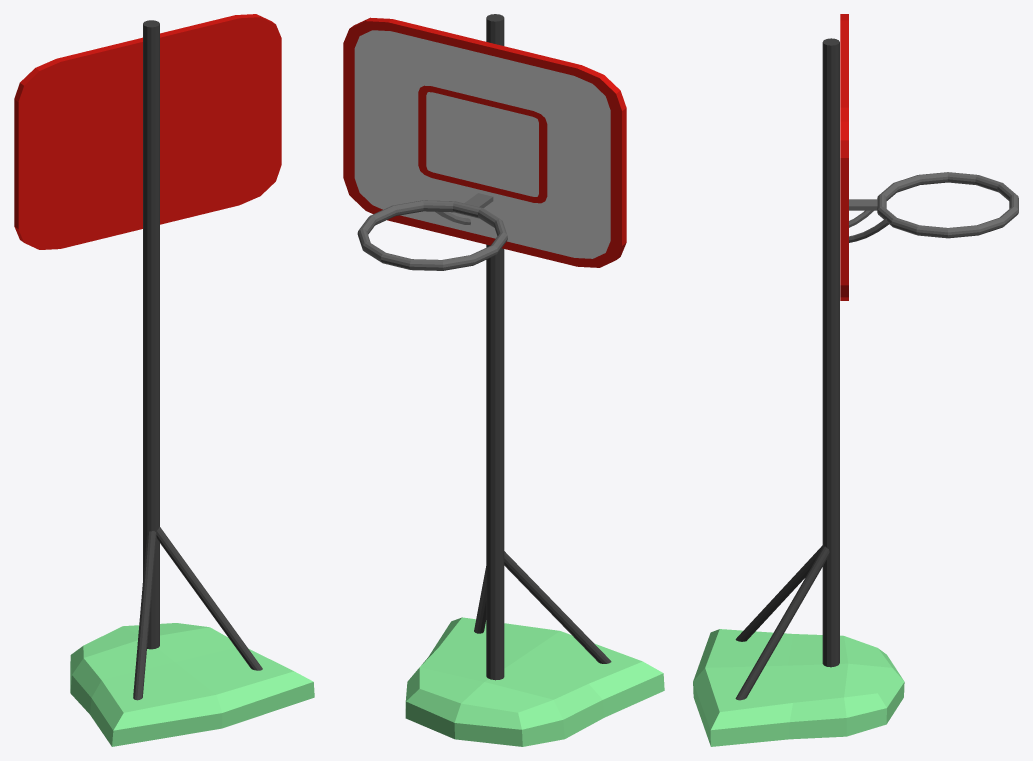
The model's file is CanastaFix.fbx.
3 views of the same model, side by side, from view 1: azimuth 30°, elevation 25°; view 2: azimuth 150°, elevation 25°; view 3: azimuth 270°, elevation 25° (orthographic). The views are drawn at different scales.
Parts seen in each view (by area): view 1: Canasta; view 2: Canasta; view 3: Canasta.
Boxes of the visible parts, <box> form: Canasta: <box>14,14,314,746</box>; Canasta: <box>343,14,664,746</box>; Canasta: <box>693,14,1018,746</box>.
Size of what is drawn, in the model's own units: 1.29 by 1.38 by 3.07.
